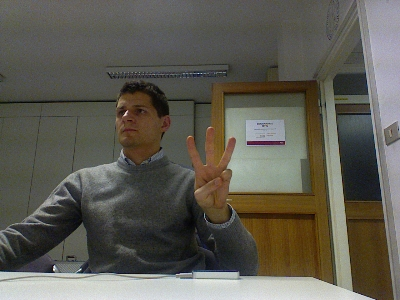三分: (185, 126, 237, 214)
